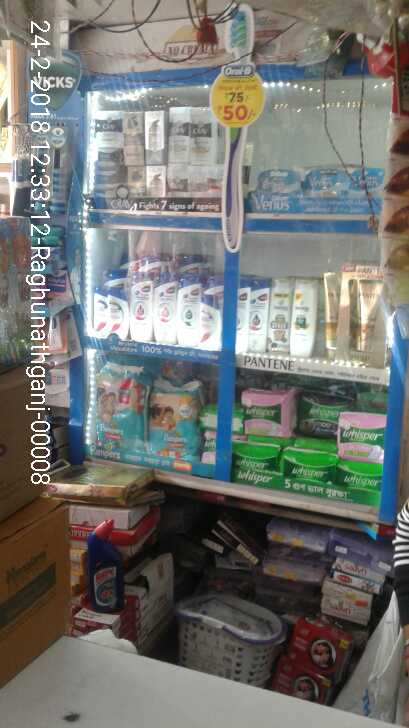venus: (303, 168, 347, 196), (347, 167, 382, 196), (259, 168, 303, 191)
